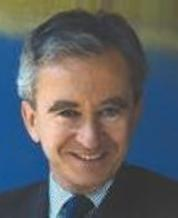face: (55, 99, 122, 165)
